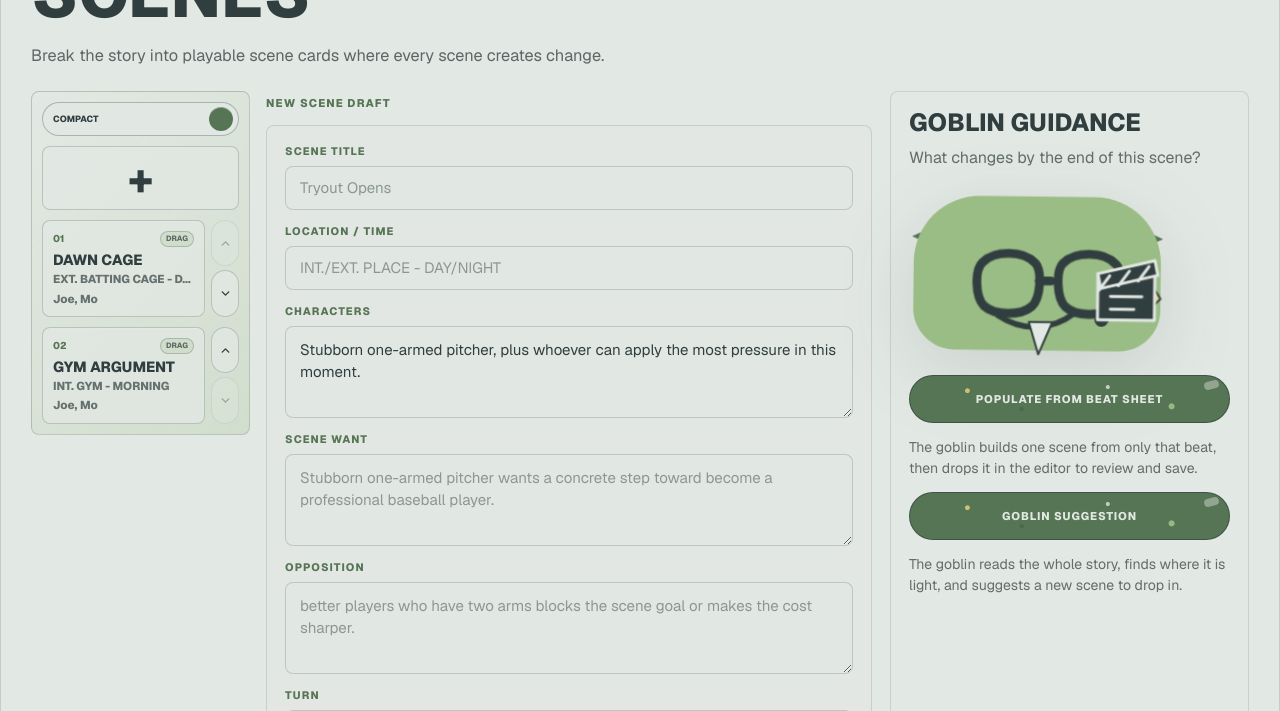
Test: SceneBoard behavior › deletes the selected scene from the footer and selects the next scene
This screenshot has width=1280, height=711.
Step 1. Click the button "01 Drag Dawn Cage EXT. BATTING CAGE - DAWN Joe, Mo" → (124, 268), box left=42, top=220, right=205, bottom=317
(page scrolled)
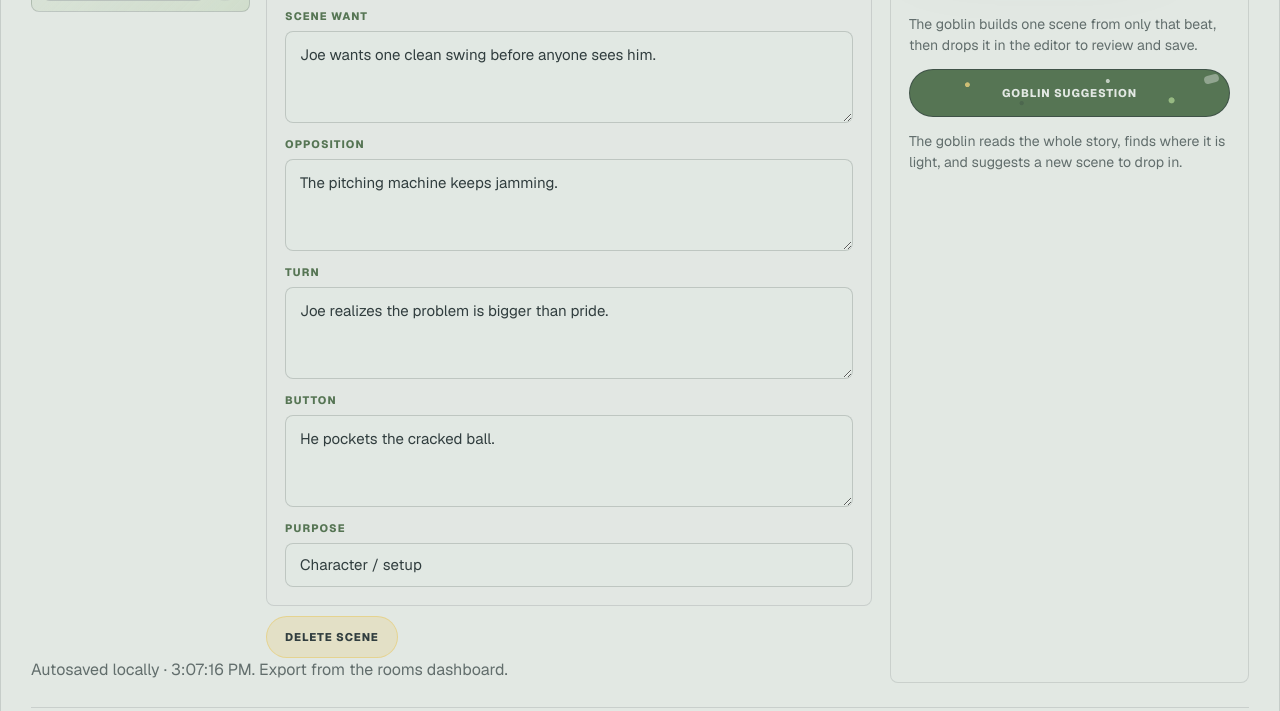
Step 2. Click the button with aria-label "Delete selected scene" → (332, 637), box left=266, top=616, right=398, bottom=658
(page scrolled)
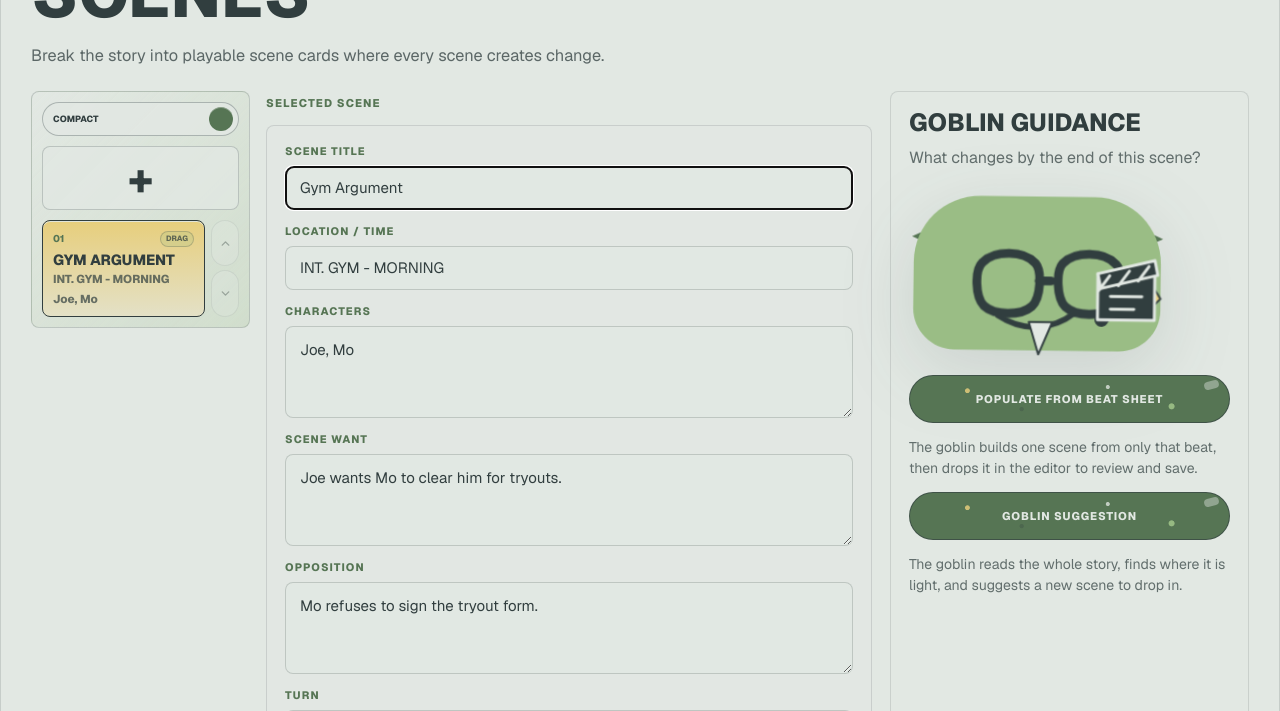
Check: the field labelled "Scene title" holds "Gym Argument", box left=285, top=166, right=853, bottom=210
